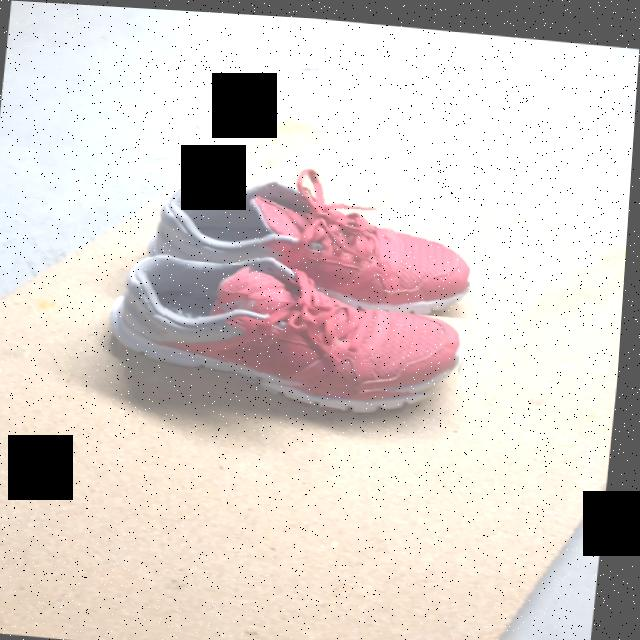shoe: (117, 256, 463, 388), (254, 169, 475, 309)
